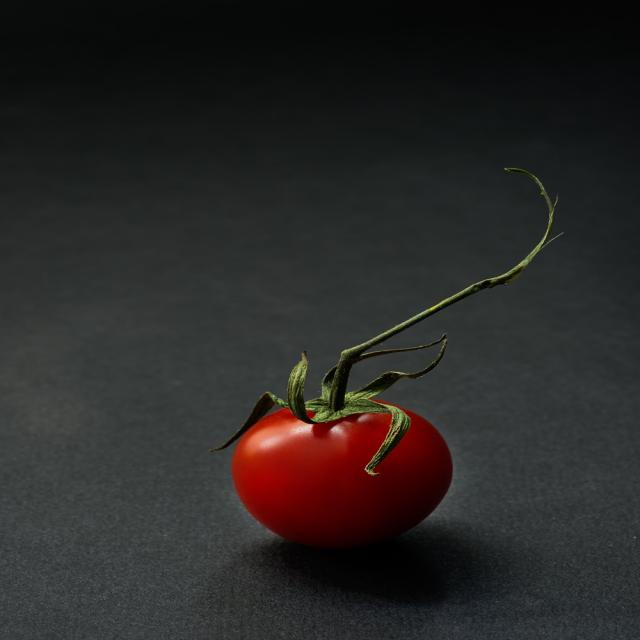level 6: (229, 400, 454, 551)
